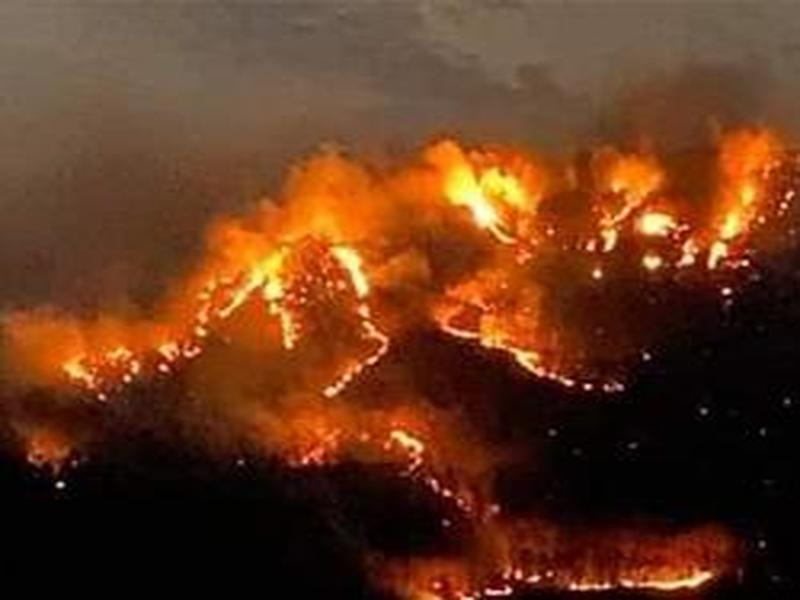FIRE: (37, 154, 787, 571)
